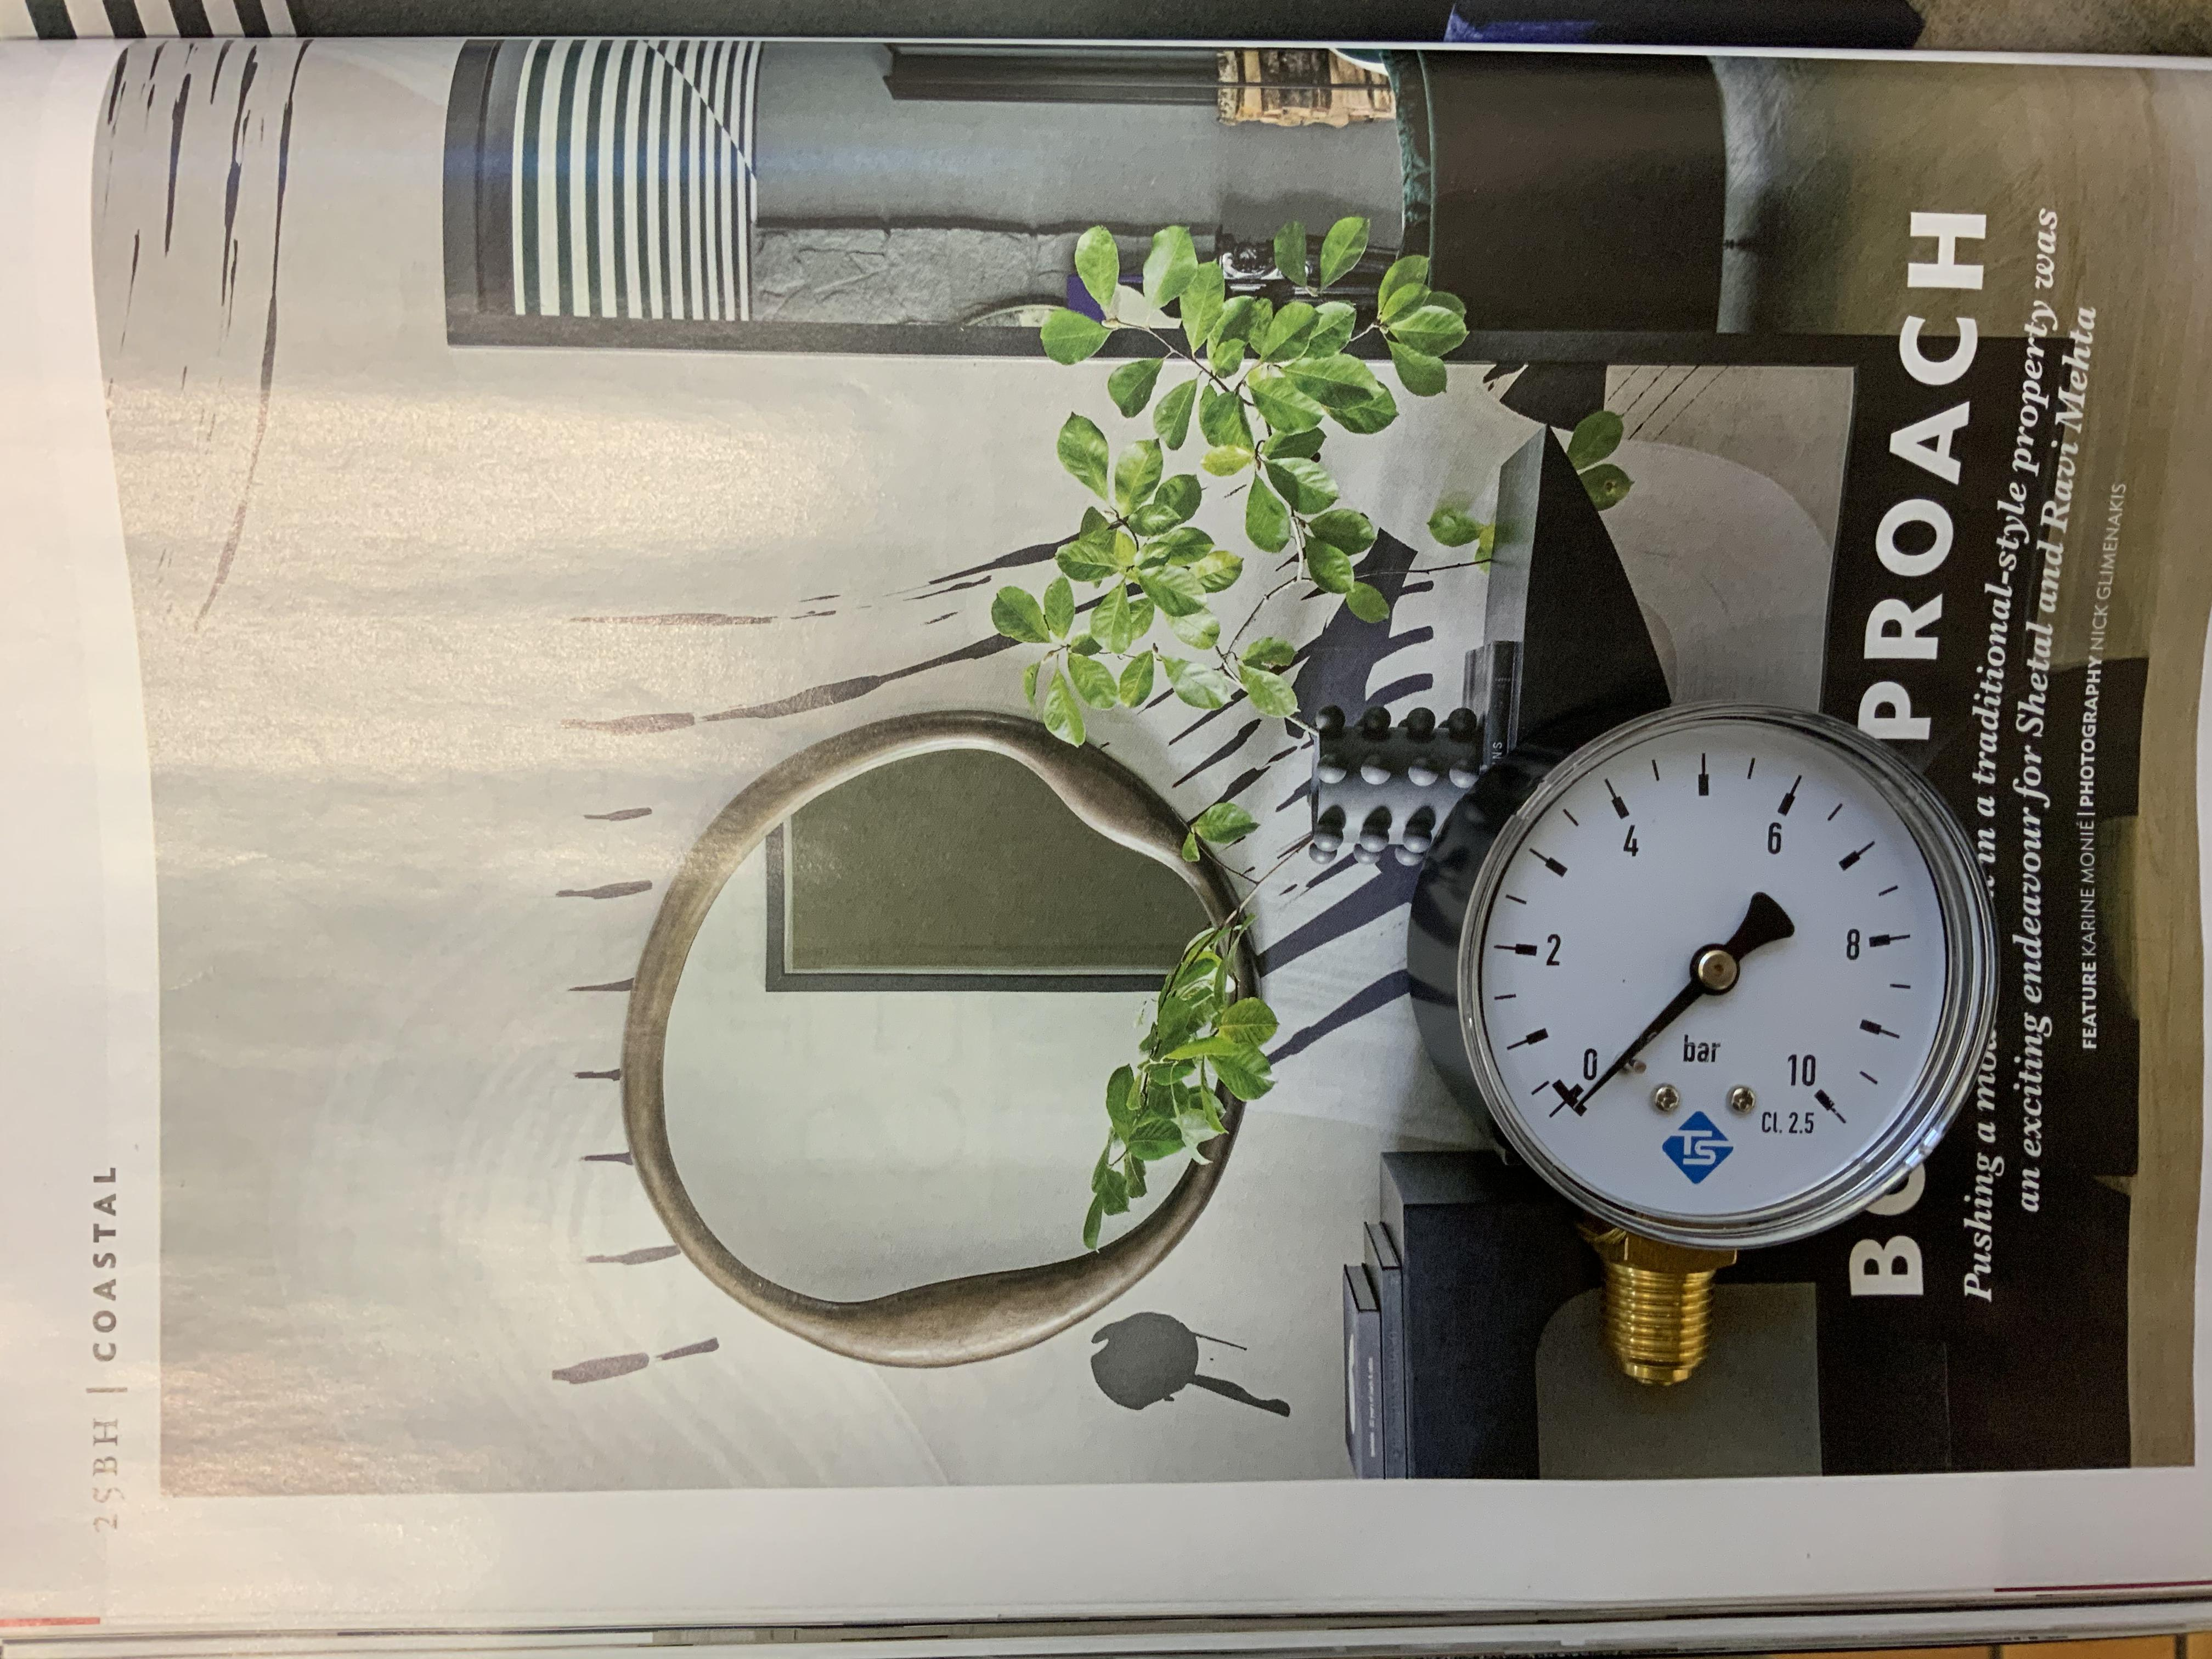gauge: (1460, 702, 1989, 1246)
